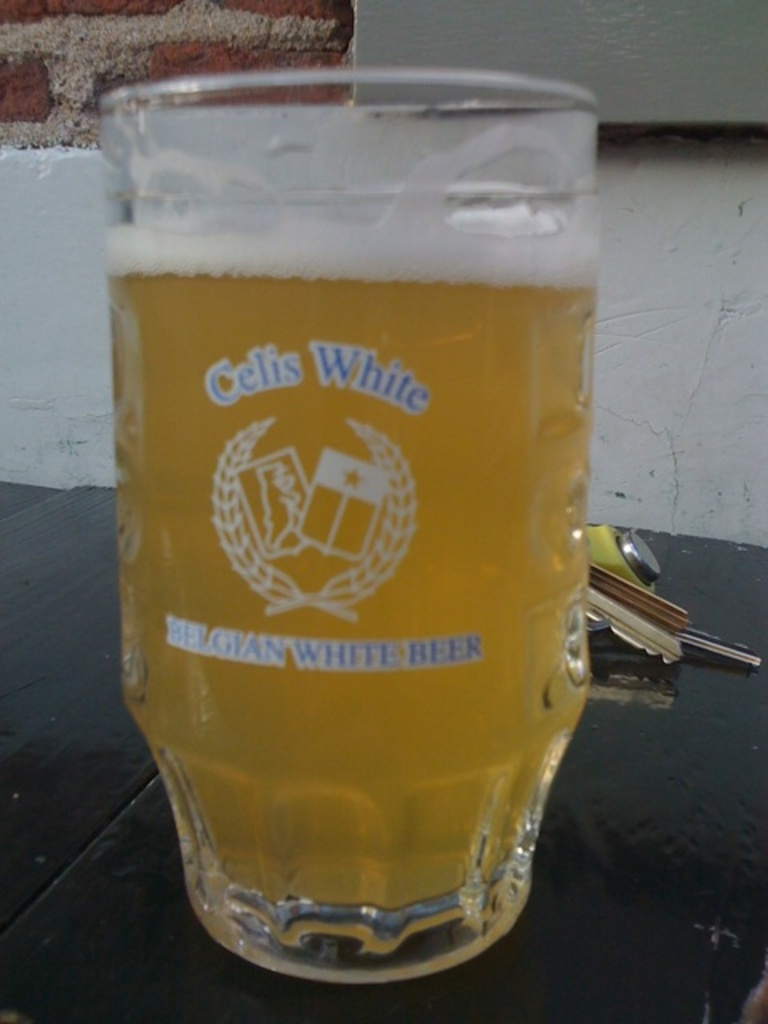Beer: (123, 222, 603, 908)
